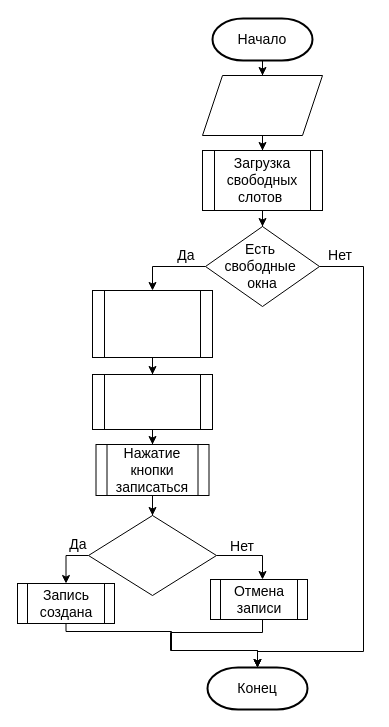
The diagram is 389 pixels wide and 727 high, and some of its shapes have lost their labels. The box of each missing label's shape, as (x1, y1, x2, y2) in pixels:
Выбор удобного времени: (92, 374, 212, 430)
Выбрать врача из списка: (202, 74, 322, 136)
Запись прошла успешно: (88, 514, 216, 596)
Просмотр списка доступных слотов: (92, 290, 212, 358)
